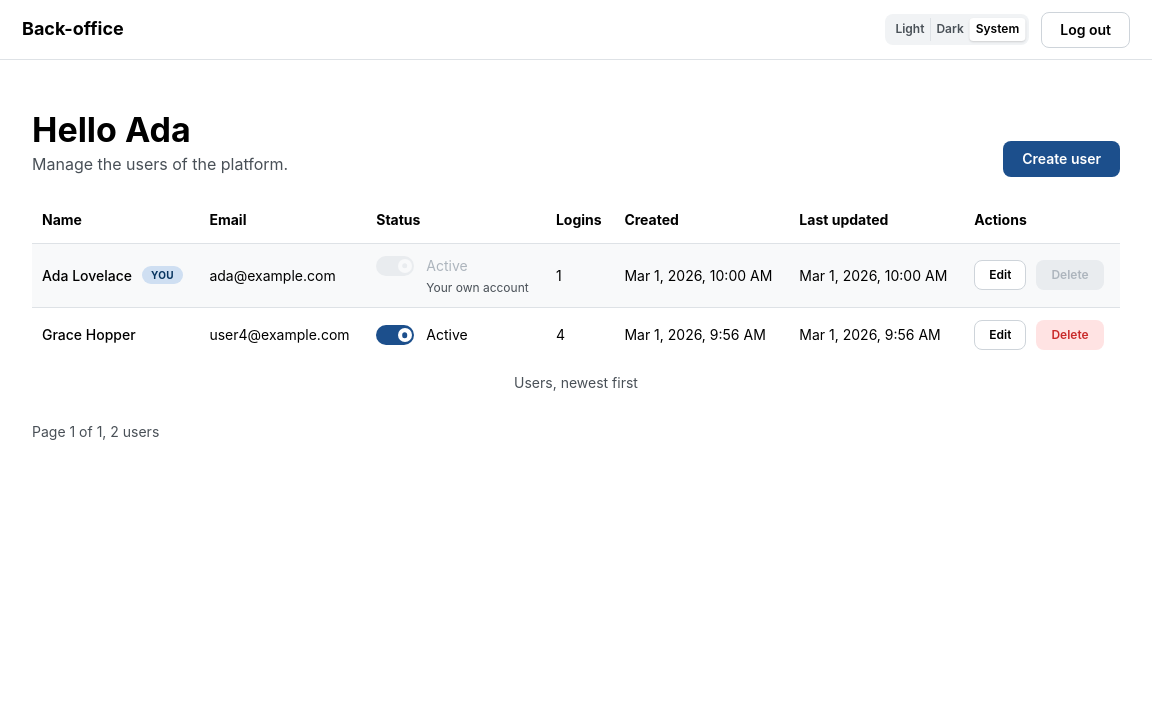
Test case: dashboard: create, edit, status, delete › DASH-60 NFR-22 Escape closes a dialog and returns focus to the control that opened it
The width and height of the screenshot is (1152, 720).
Expected: the table is shown, [32,197,1120,394]
Click the button with aria-label "Edit Grace Hopper" at (1000, 335), box [974,320,1026,350]
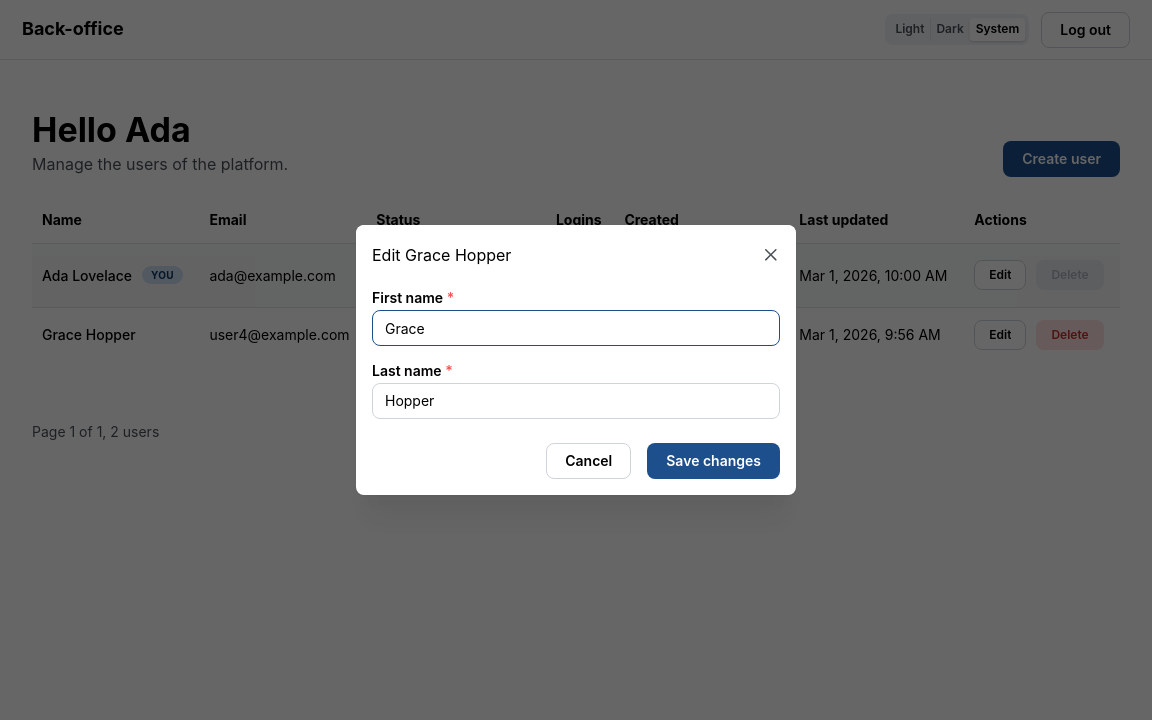
Expected: the dialog is shown, [356,225,796,495]
Press Escape
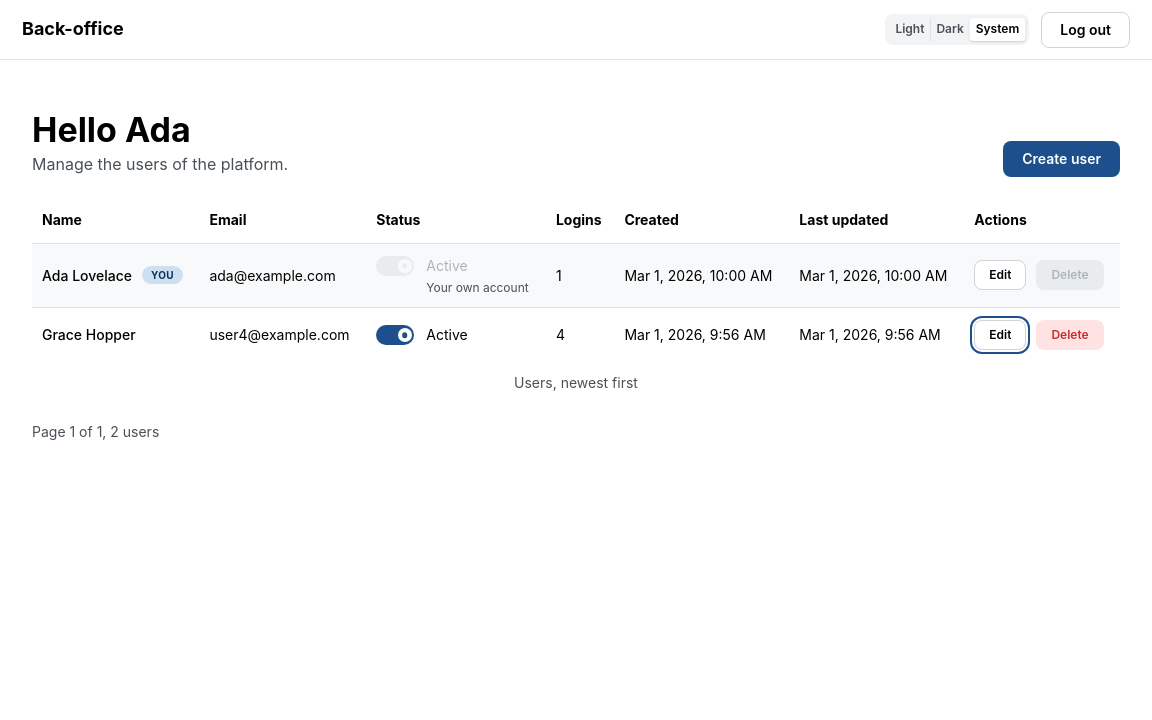
Expected: the dialog is gone
